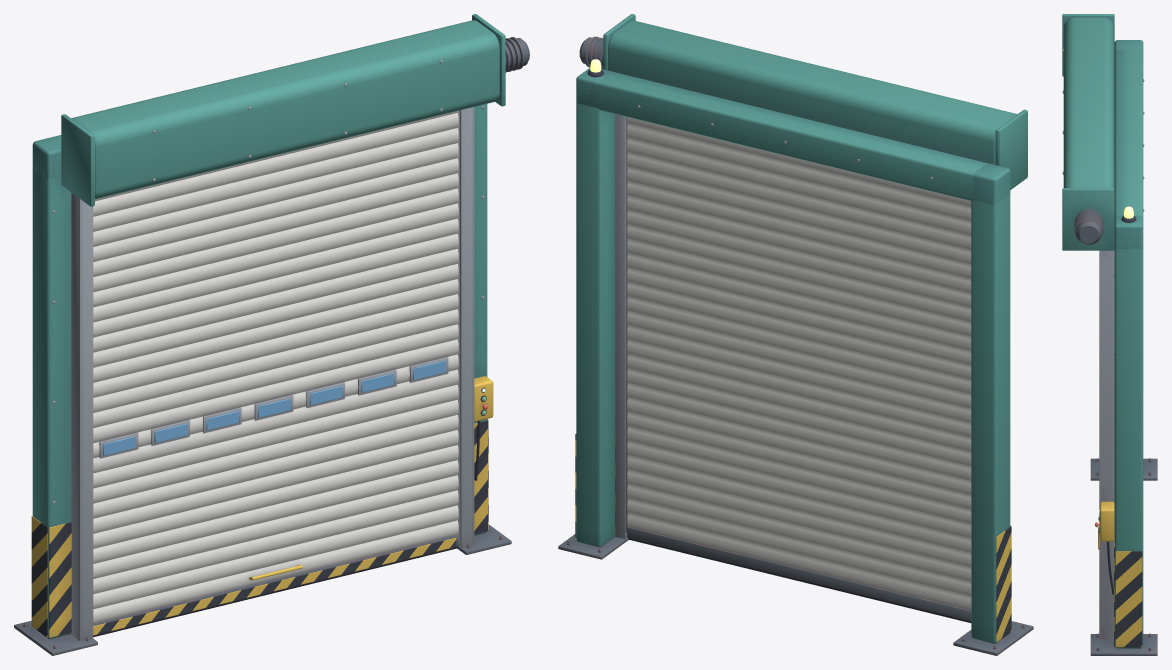
Rendered from roller-shutter-door.glb.
3 views of the same model, side by side, from view 1: azimuth 30°, elevation 25°; view 2: azimuth 150°, elevation 25°; view 3: azimuth 270°, elevation 25° (orthographic). The views are drawn at different scales.
Visible parts, largest first — view 1: roller-shutter-door_shutter, roller-shutter-door_body; view 2: roller-shutter-door_shutter, roller-shutter-door_body; view 3: roller-shutter-door_body.
Part boxes in pixels (box(x1,y1,x2,y2)): roller-shutter-door_shutter: box(93, 111, 459, 636); roller-shutter-door_body: box(14, 14, 529, 655); roller-shutter-door_shutter: box(626, 117, 971, 622); roller-shutter-door_body: box(558, 14, 1033, 655); roller-shutter-door_body: box(1062, 14, 1157, 655).
Size of the model in its own units: 4.92 by 5.26 by 0.995.
Materials: 4 (2 with a texture image).
